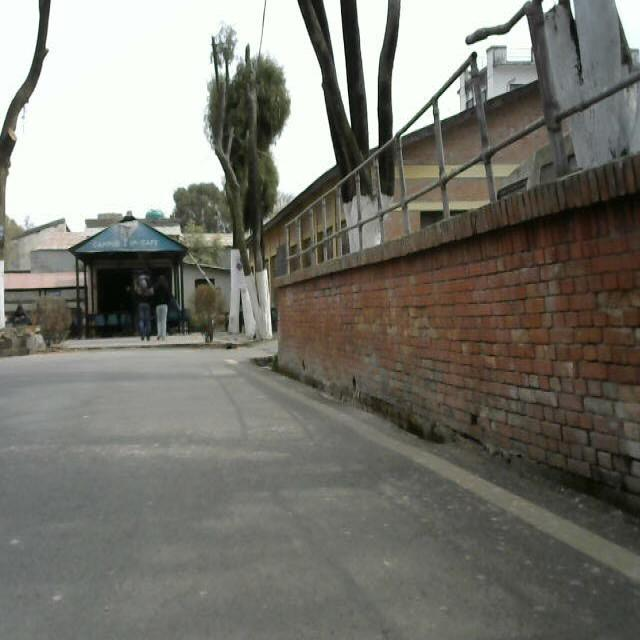Road: (0, 353, 635, 630)
trees: (208, 37, 311, 380), (297, 7, 420, 192)
